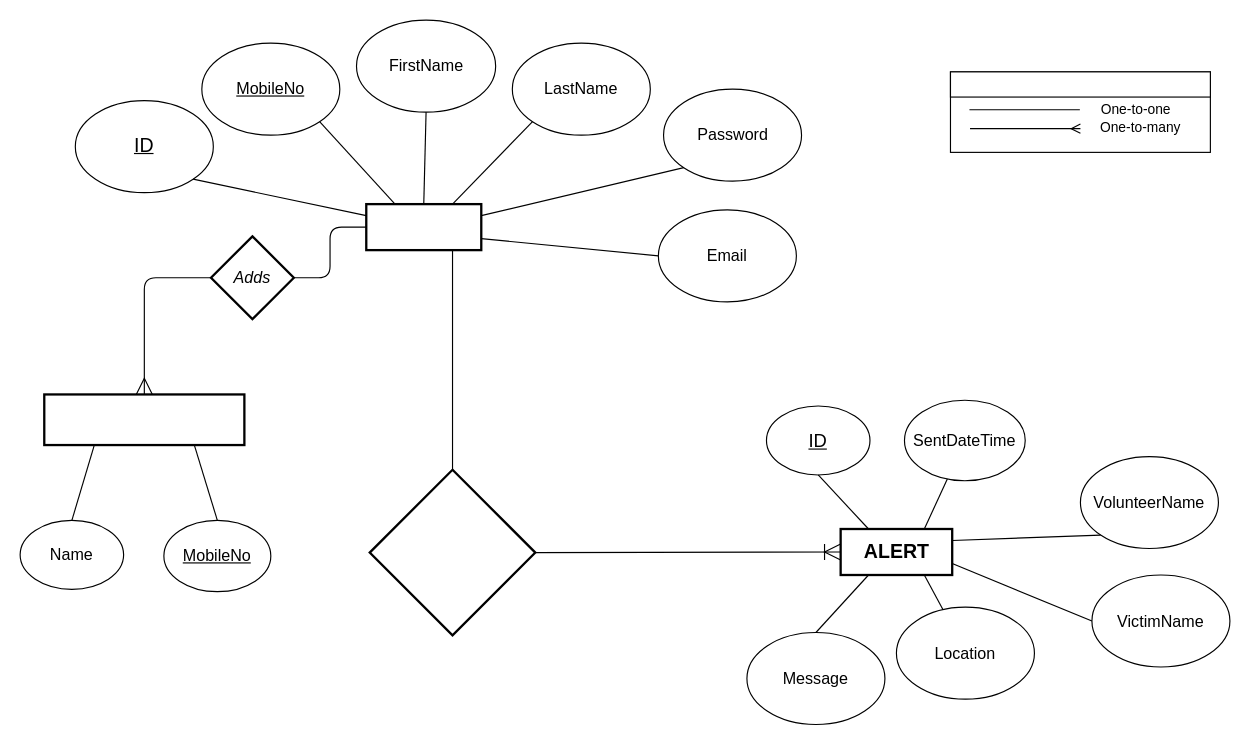
Image size: 1250x745. Some labels were removed from this diagram. Here are the shapes that lost their labels. From the top down, the centre of each, then its label:
At point (1079, 84): "Relationships - Barker style".
At point (423, 226): "USER".
At point (144, 419): "VOLUNTEER".
At point (452, 552): "Sends & See".
